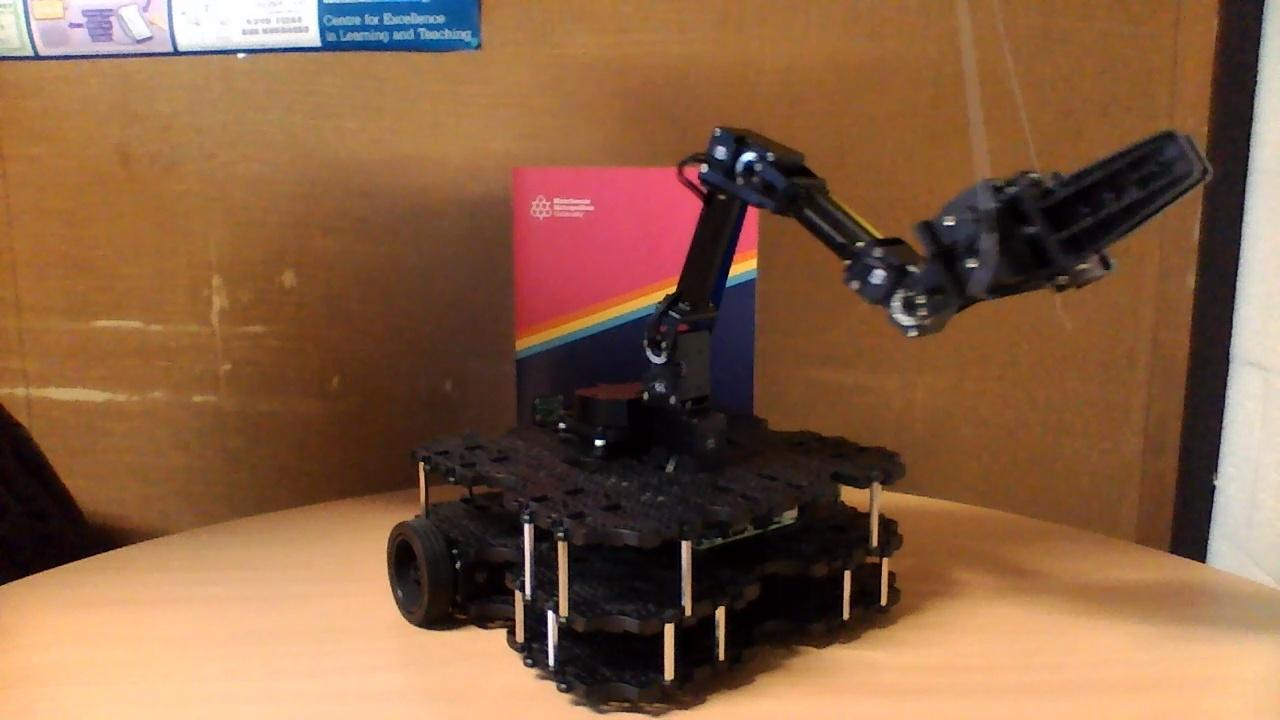Arm: (639, 125, 755, 367)
Hand: (888, 125, 1216, 336)
Wrist: (751, 137, 936, 327)
base: (385, 378, 909, 709)
